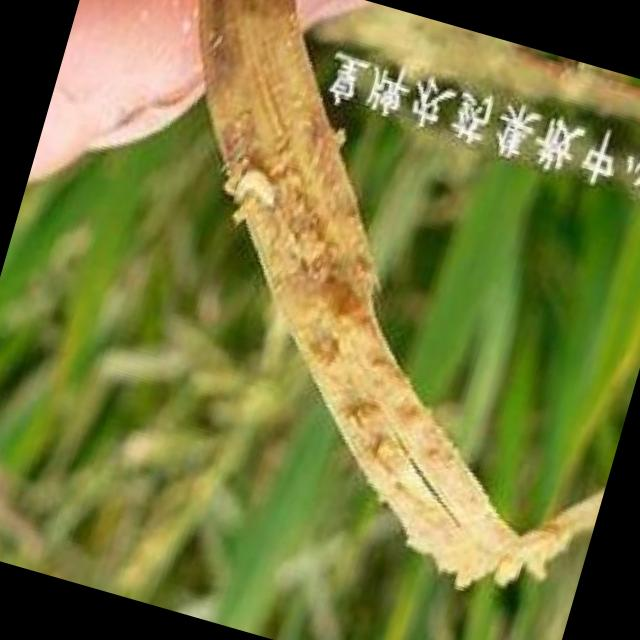whorl-maggot: (227, 156, 288, 222)
